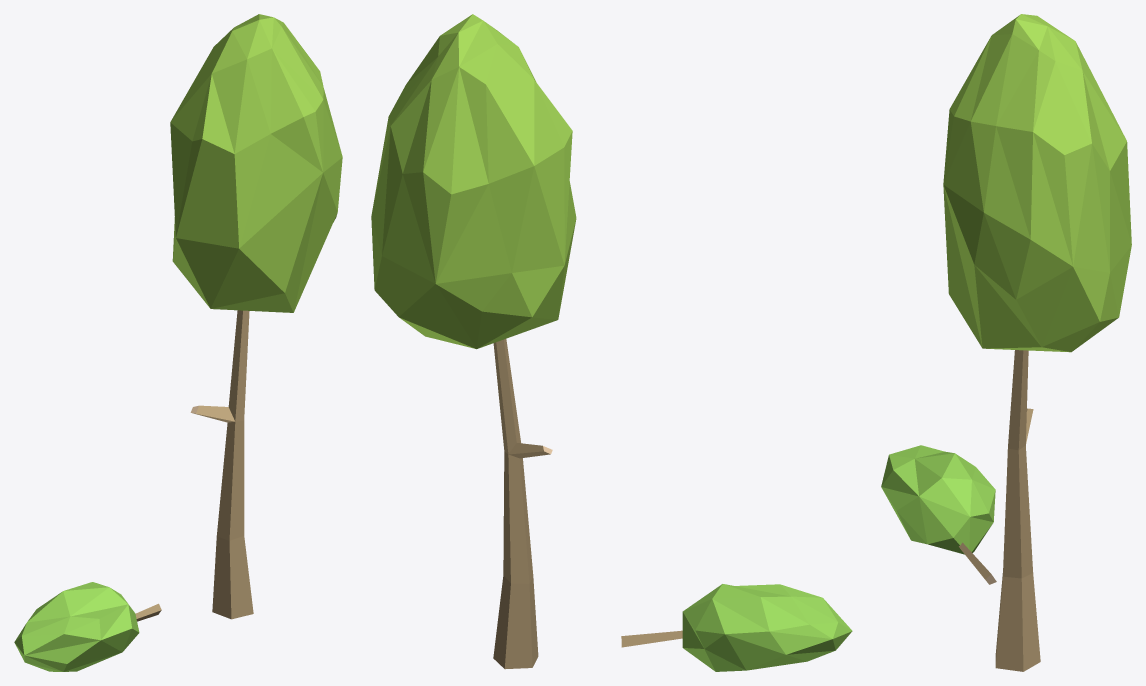
Rendered from Random_Tree_crk_m_BT_01.fbx.
3 renders of one model, left to right at view 1: azimuth 30°, elevation 25°; view 2: azimuth 150°, elevation 25°; view 3: azimuth 270°, elevation 25°, orthographic. The views are drawn at different scales.
Visible parts, largest first — view 1: Random_Tree_crk_m_BT_01; view 2: Random_Tree_crk_m_BT_01; view 3: Random_Tree_crk_m_BT_01.
Part boxes in pixels (x1=…): Random_Tree_crk_m_BT_01: x1=14, y1=14, x2=342, y2=671; Random_Tree_crk_m_BT_01: x1=371, y1=14, x2=852, y2=671; Random_Tree_crk_m_BT_01: x1=881, y1=14, x2=1131, y2=671.
Bounding box in the file's own units: 590 × 890 × 304.
